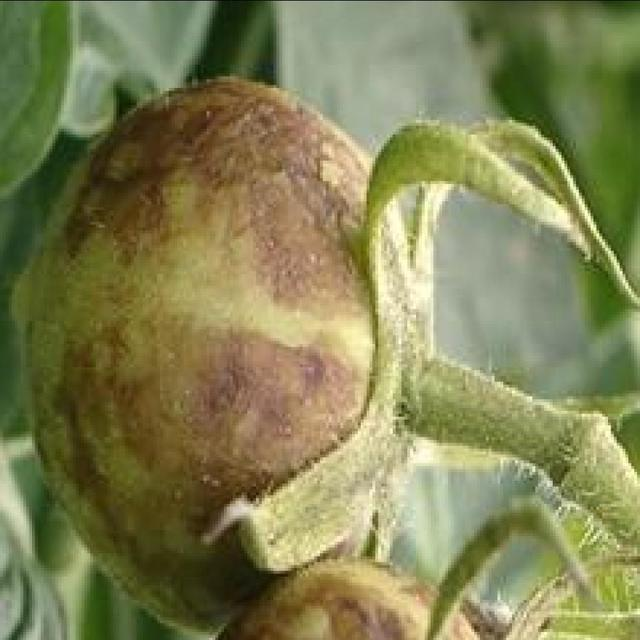Spotted wilt Virus Fruit: (152, 54, 270, 400)
